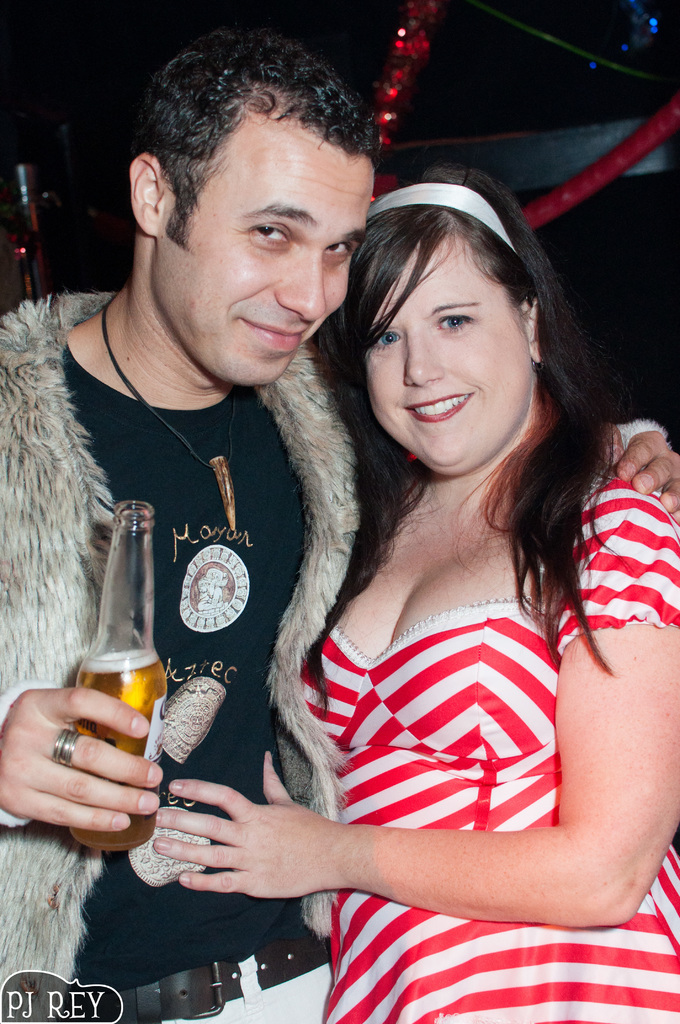Beer: (67, 644, 167, 854)
